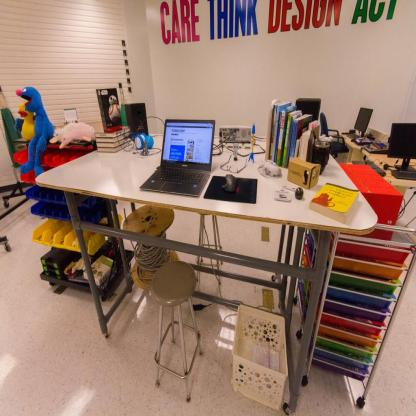board: (138, 117, 216, 199), (118, 80, 128, 128)
